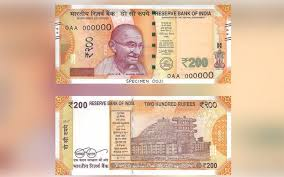twoHundred: (67, 19, 213, 72)
